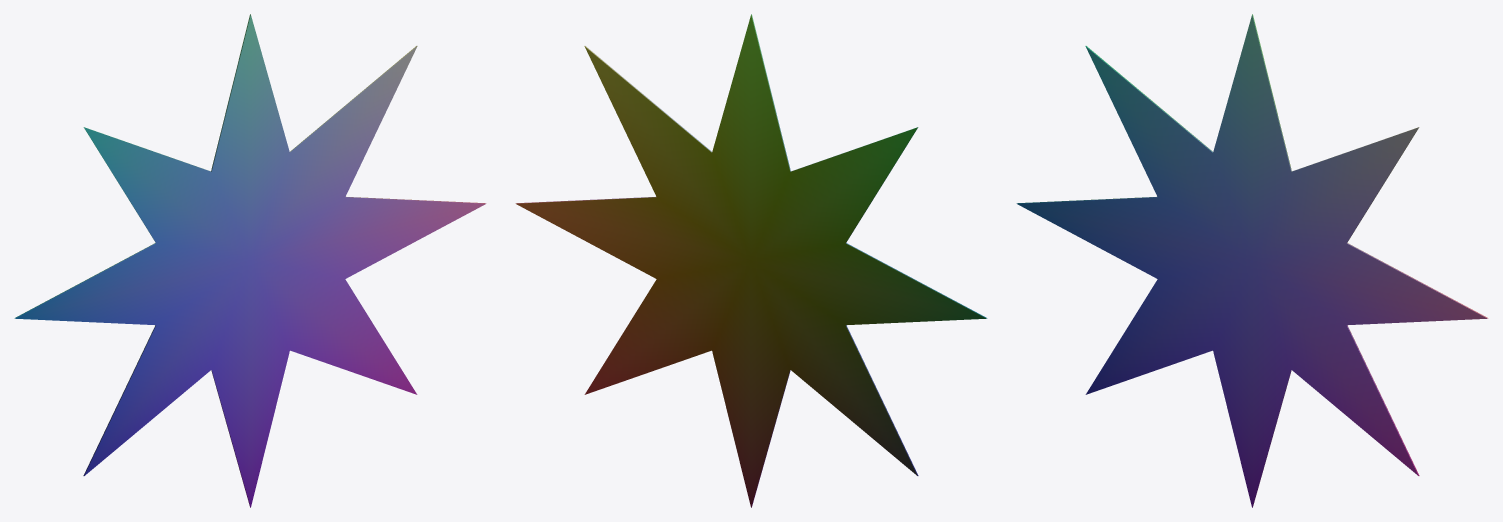
File: zeometry-flat-shapes-flat-star_v10.glb
3 renders of one model, left to right at view 1: azimuth 30°, elevation 25°; view 2: azimuth 150°, elevation 25°; view 3: azimuth 330°, elevation 25°, orthographic.
Parts seen in each view (by area): view 1: Flat Star_v10; view 2: Flat Star_v10; view 3: Flat Star_v10.
Boxes of the visible parts, x1,y1,x2,y2 form: Flat Star_v10: [14, 14, 486, 507]; Flat Star_v10: [515, 14, 987, 507]; Flat Star_v10: [1016, 14, 1488, 507].
Size of the model in its own units: 0.5 by 0.5 by 0.00133.
